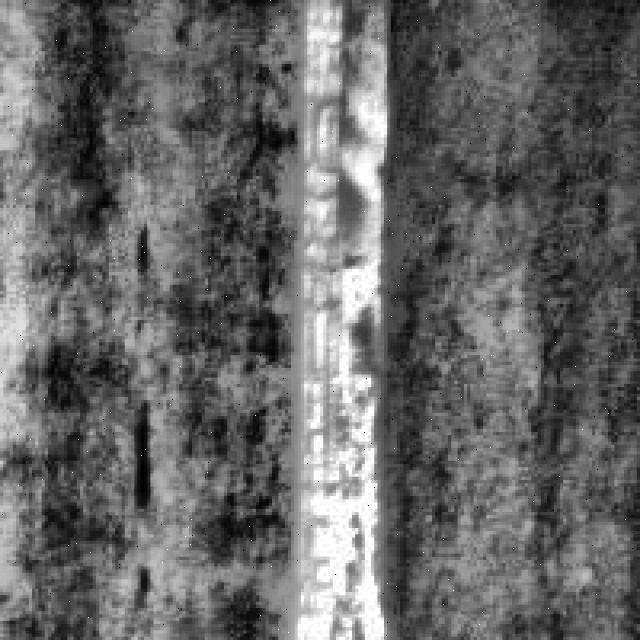Inclusion: (282, 0, 396, 627)
Patches: (118, 394, 164, 522)
